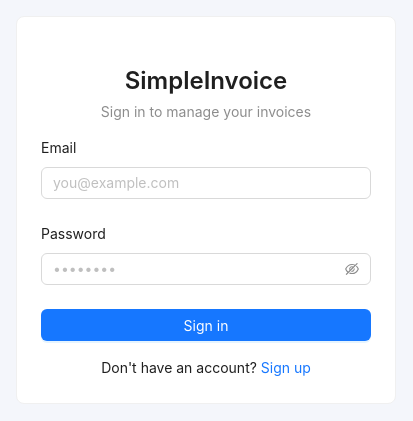
Scenario: LoginPage › shows validation errors when fields are empty
This screenshot has width=413, height=421.
Click the button "Sign in".
click(206, 325)  # box [41,309,371,341]
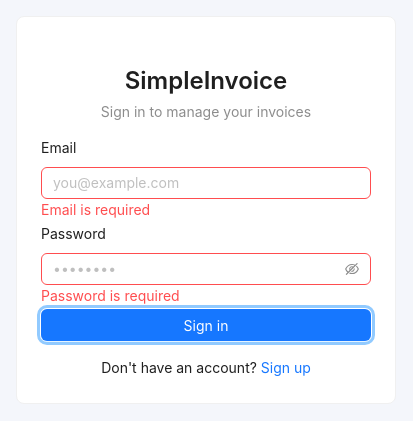
Now the text "Email is required" is shown, box [41,201,150,218]
Now the text "Password is required" is shown, box [41,287,180,304]
